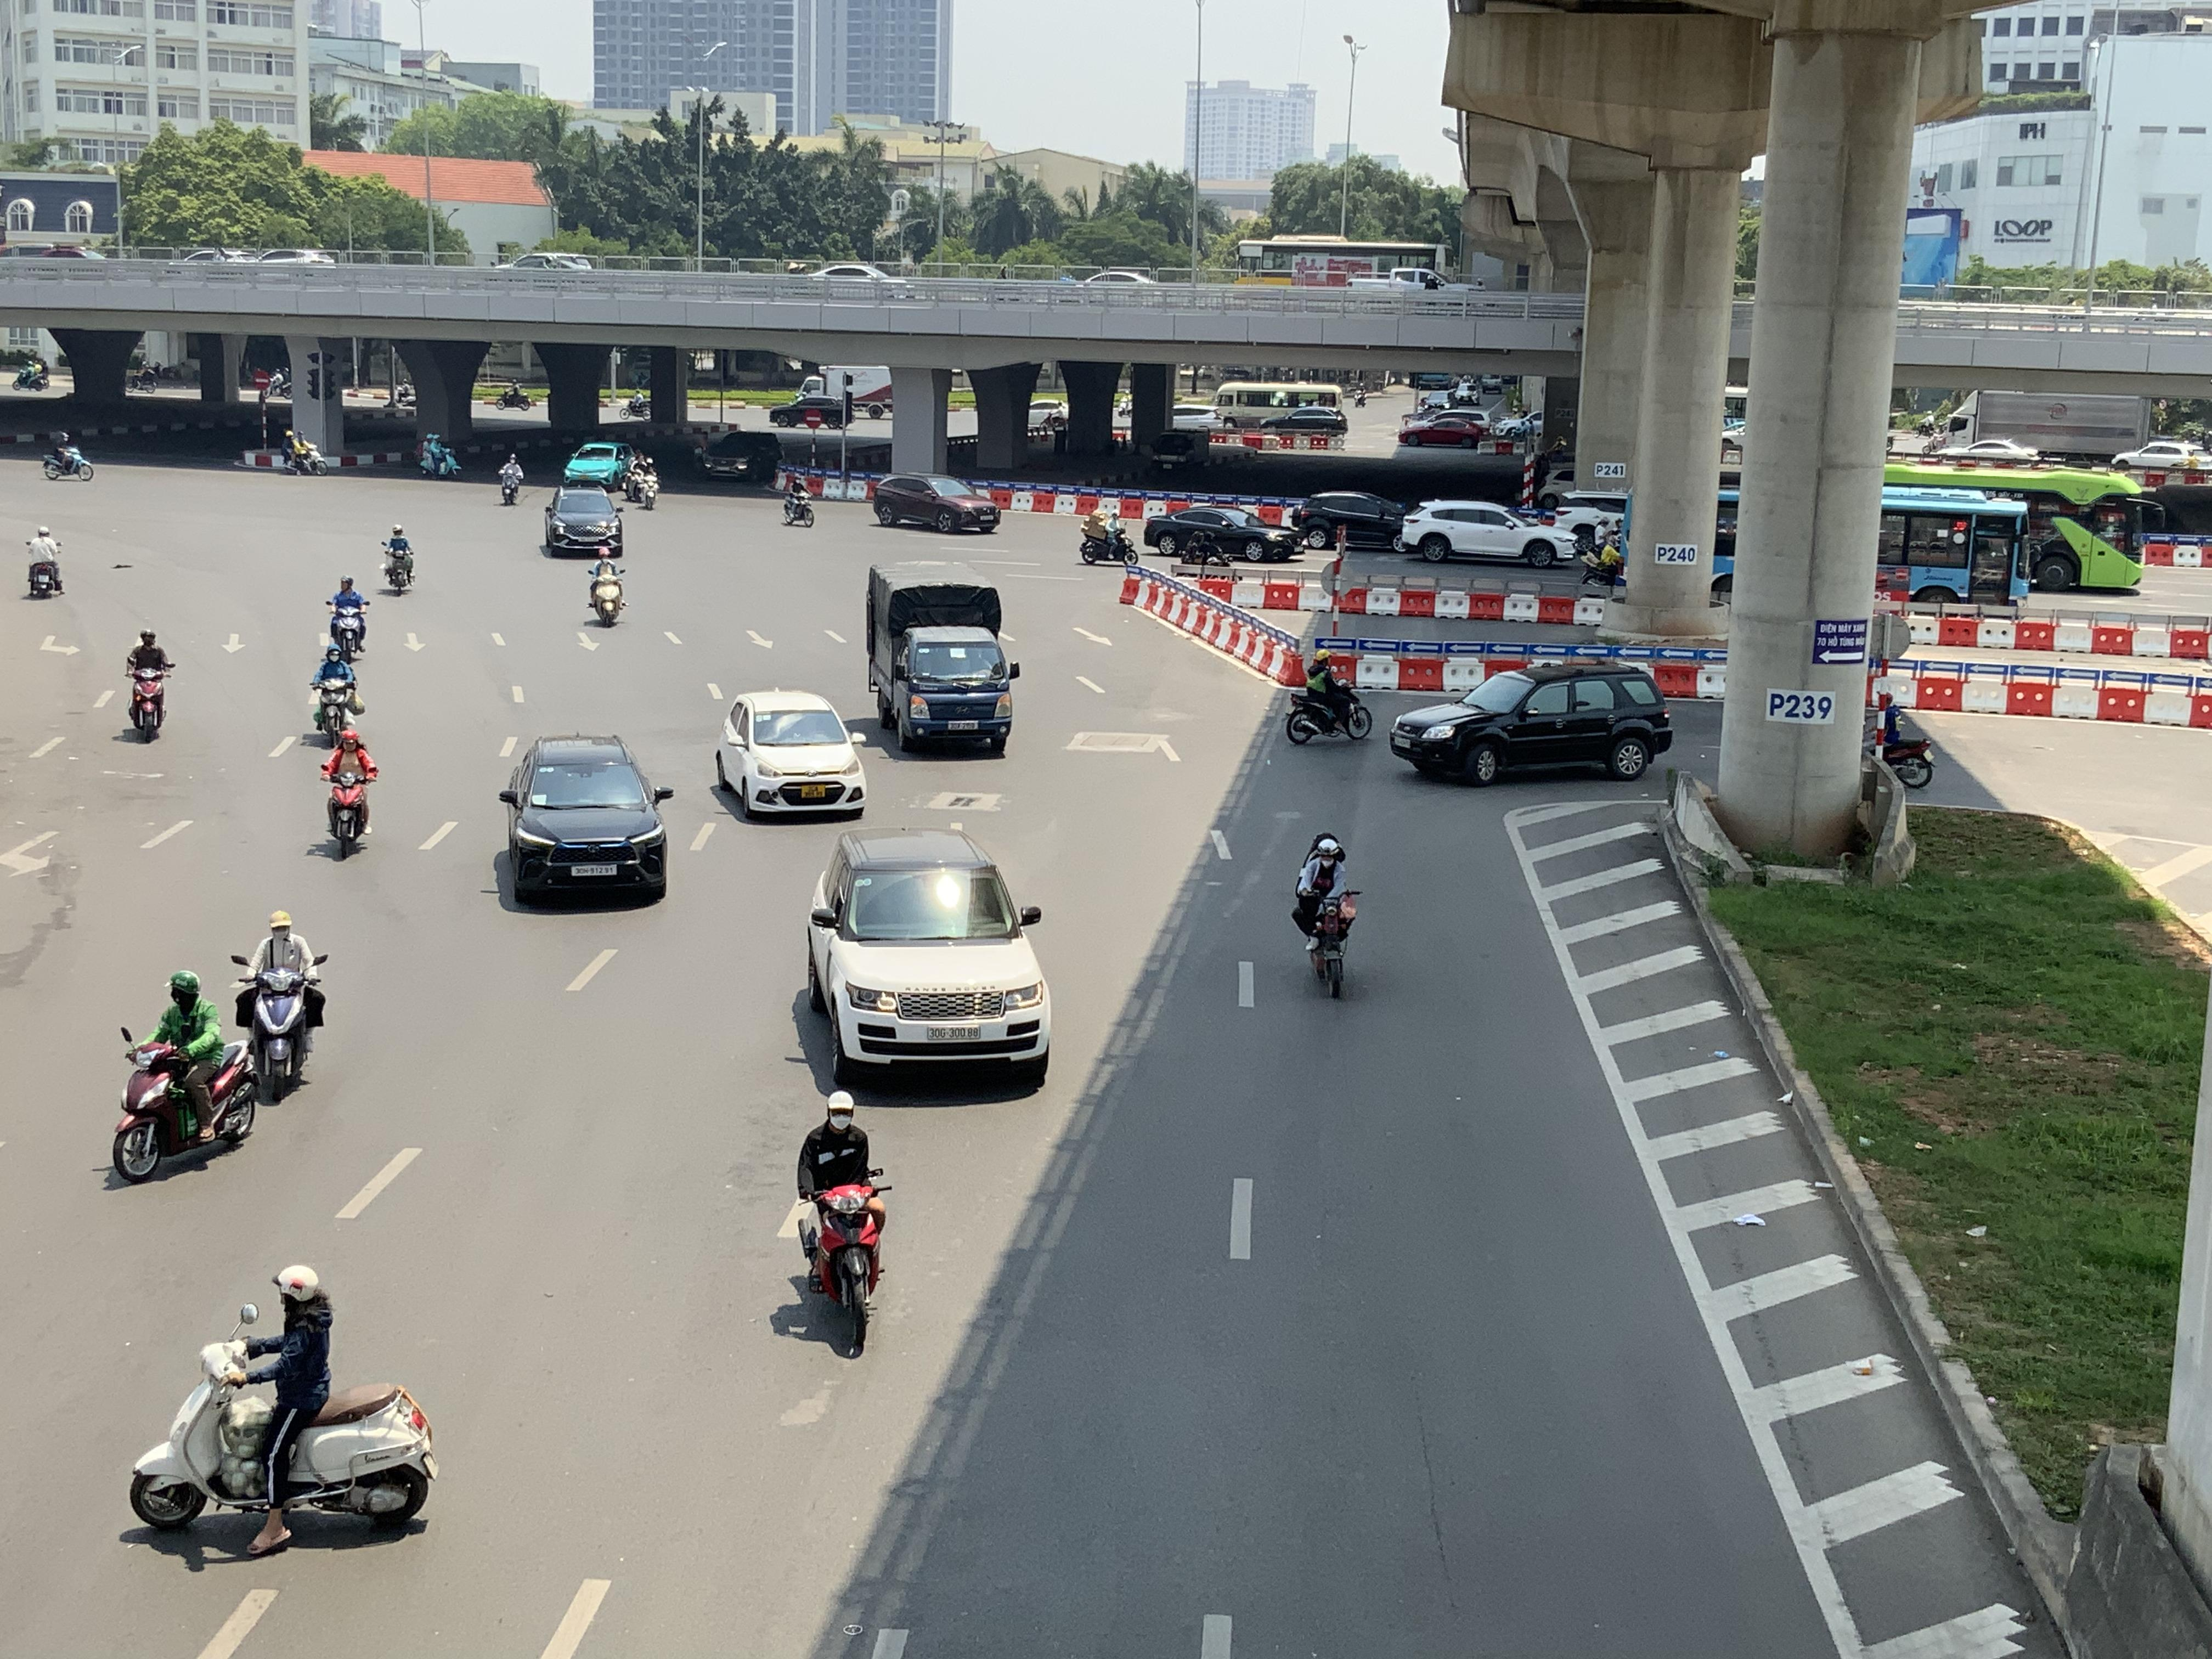BSD: (927, 1025, 981, 1042), (571, 863, 618, 875), (948, 721, 979, 730)
BSV: (801, 784, 827, 798)
bus: (1888, 460, 2146, 594), (1879, 490, 2034, 606), (1231, 234, 1446, 288), (1212, 380, 1345, 422)
car: (803, 830, 1050, 1089), (1388, 664, 1674, 786), (496, 734, 672, 910), (712, 688, 867, 823), (1397, 500, 1580, 568), (1143, 500, 1303, 563), (871, 472, 1001, 533), (1291, 488, 1406, 549), (542, 486, 624, 558), (561, 439, 632, 491), (2114, 441, 2210, 474), (1397, 416, 1487, 450), (768, 396, 853, 429), (1258, 406, 1350, 436)
motorbike: (129, 1263, 439, 1549), (110, 969, 260, 1185), (794, 1087, 890, 1358), (232, 908, 327, 1107), (1294, 831, 1360, 999), (1284, 648, 1374, 744), (320, 725, 376, 859), (1862, 687, 1935, 788), (308, 641, 364, 744), (124, 629, 172, 742), (1078, 497, 1139, 566), (324, 573, 369, 659), (585, 540, 625, 627), (1576, 523, 1627, 591), (24, 523, 64, 598), (42, 427, 94, 479), (380, 523, 415, 596), (280, 429, 329, 476), (780, 465, 815, 526), (416, 430, 460, 479), (496, 446, 524, 505), (637, 455, 662, 511), (493, 378, 533, 411), (624, 450, 646, 498), (618, 389, 651, 420), (1040, 401, 1068, 429)
truck: (864, 565, 1019, 756), (1935, 389, 2153, 465), (798, 364, 894, 416)
